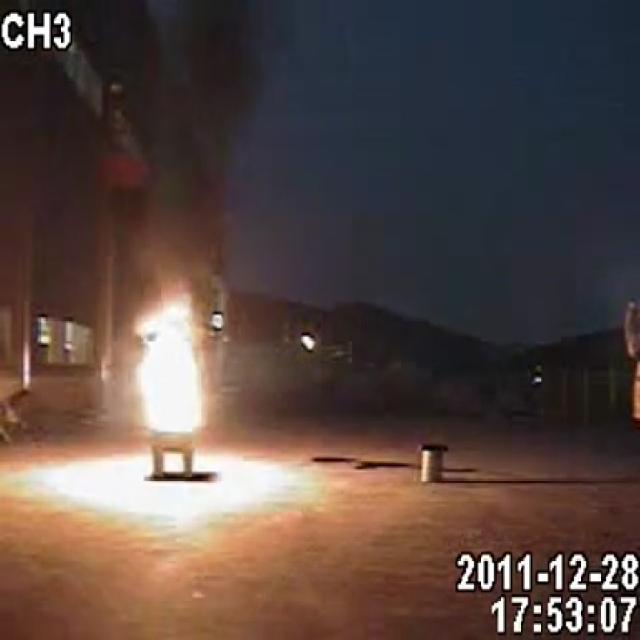Fire: (137, 288, 210, 432)
